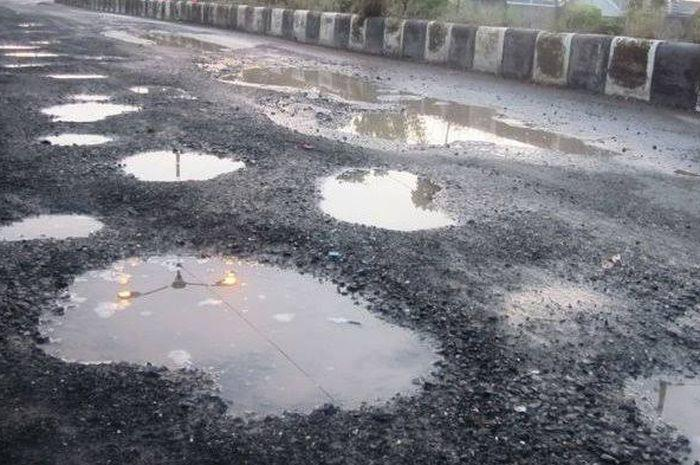Pothole: (112, 18, 629, 173), (42, 266, 452, 416), (299, 156, 495, 259), (566, 335, 700, 465), (480, 245, 651, 346), (0, 195, 122, 263), (118, 140, 264, 196), (0, 15, 114, 82), (28, 98, 149, 145), (123, 74, 188, 119)
